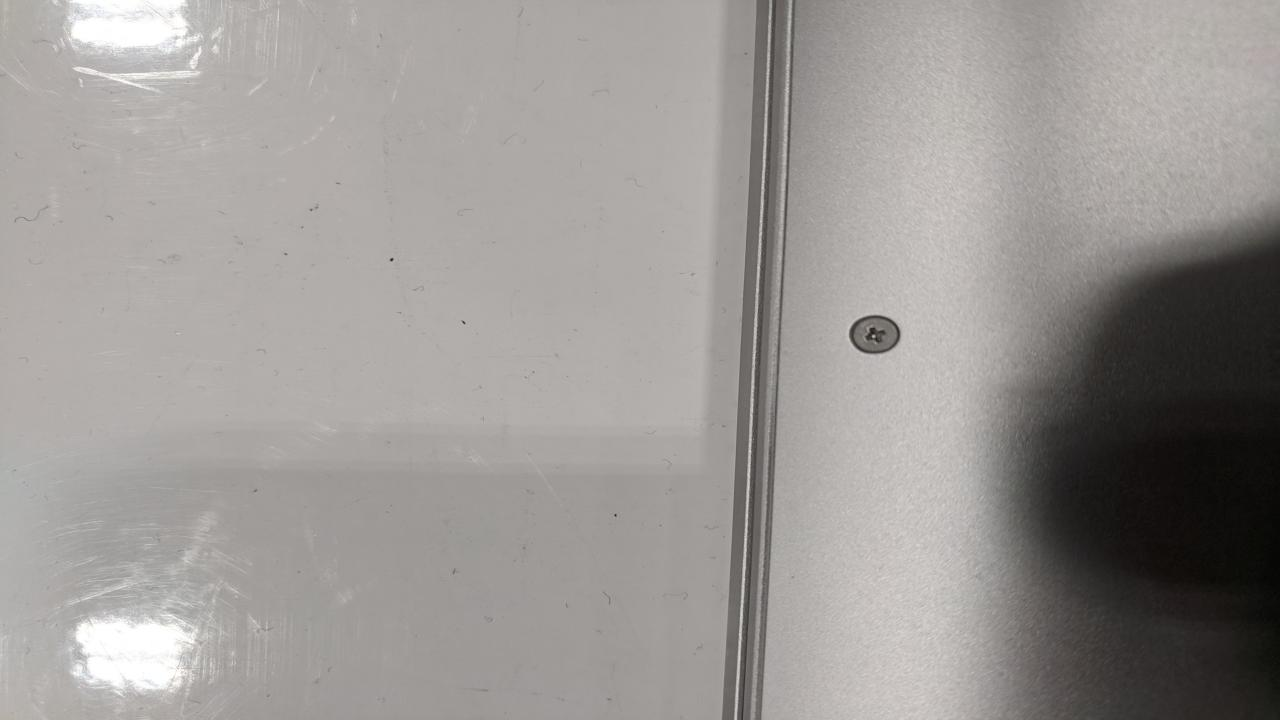CRS: (850, 312, 904, 354)
